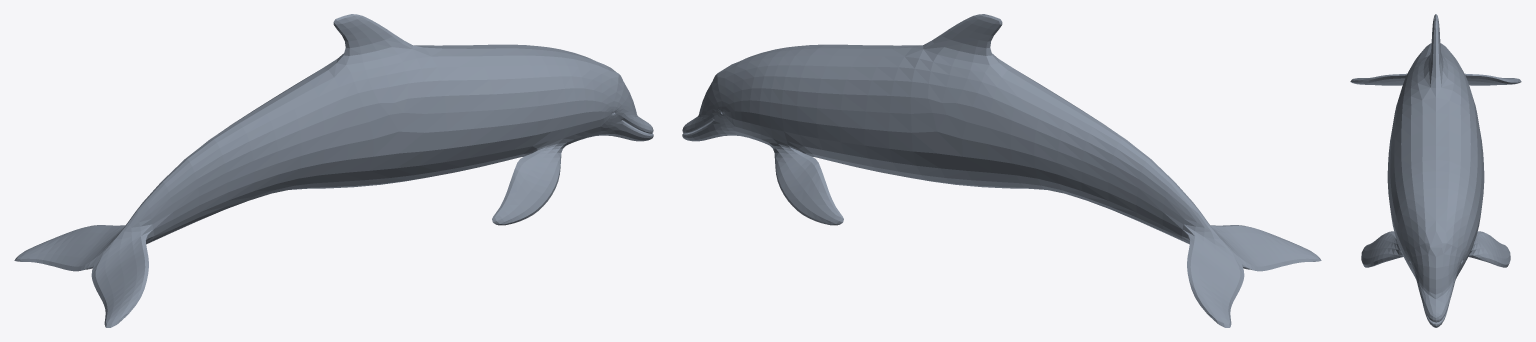
The model's file is 7934c2b9-dc58-44ef-aa25-dcaf4178a508.glb.
The picture shows the model from 3 angles, left to right: view 1: azimuth 30°, elevation 25°; view 2: azimuth 150°, elevation 25°; view 3: azimuth 270°, elevation 25°; orthographic projection. The views are drawn at different scales.
Visible parts, largest first — view 1: Dolphin; view 2: Dolphin; view 3: Dolphin.
Part boxes in pixels (box(x1,y1,x2,y2)): Dolphin: box(14, 14, 653, 327); Dolphin: box(682, 14, 1321, 327); Dolphin: box(1350, 14, 1521, 327).
Bounding box in the file's own units: 419 × 142 × 117.
